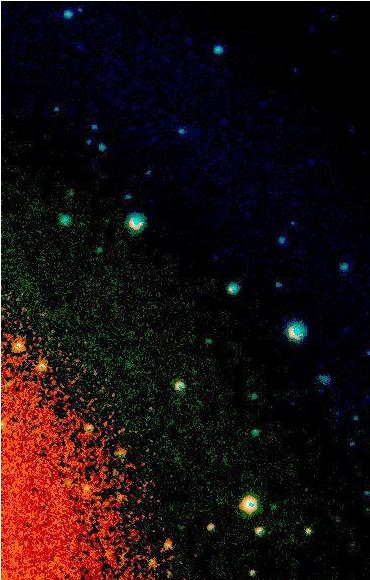star: (293, 515, 323, 545)
